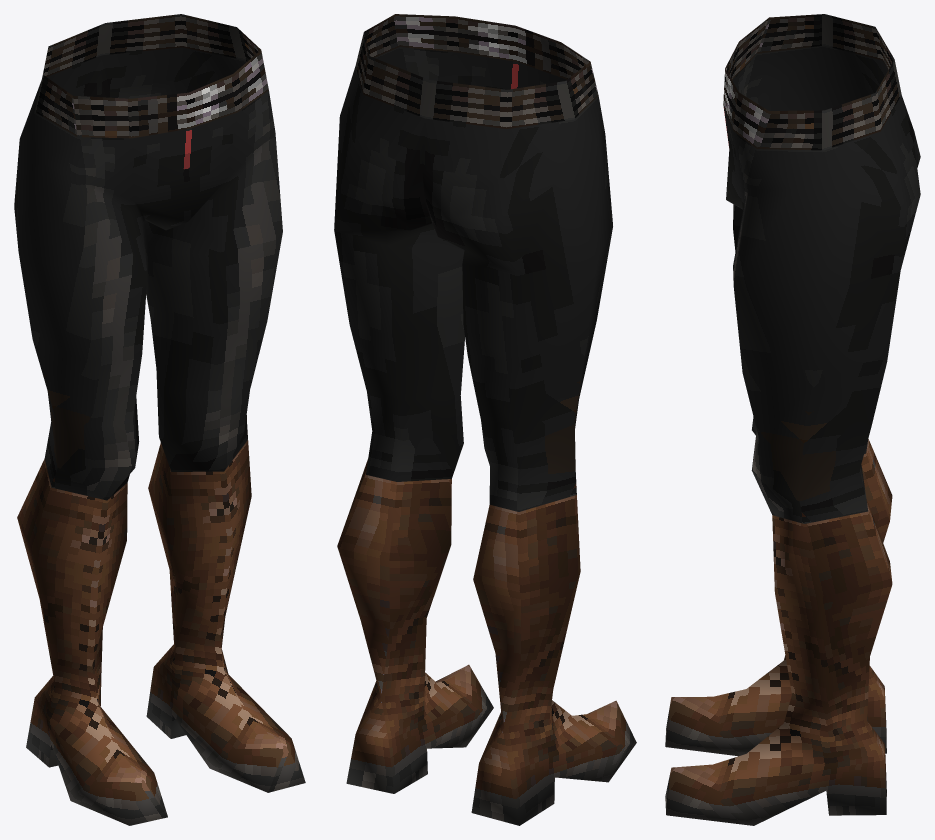
Rendered from m_reg120.glb.
The picture shows the model from 3 angles, left to right: view 1: azimuth 30°, elevation 25°; view 2: azimuth 150°, elevation 25°; view 3: azimuth 270°, elevation 25°; orthographic projection. The views are drawn at different scales.
Size of the model in its own units: 39.97 by 108 by 34.85.
1 material, 1 textured.
